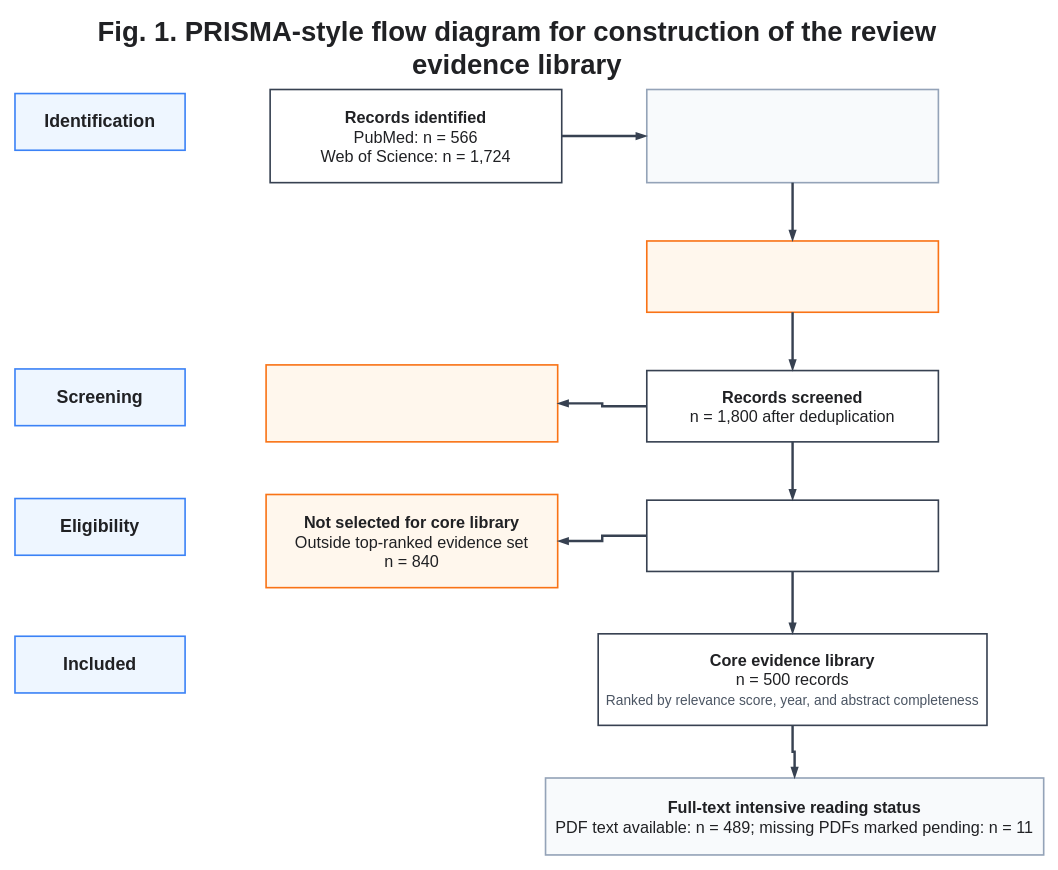
Image size: 1058x870. Some labels were removed from this diagram. Each missing label, with the centre of its shape:
Duplicates removed n = 490: point (792, 276)
Excluded at relevance screening Weak/peripheral relevance: n = 460: point (411, 403)
Strongly relevant records n = 1,340: point (792, 535)
Total retrieved n = 2,290 records: point (792, 135)
